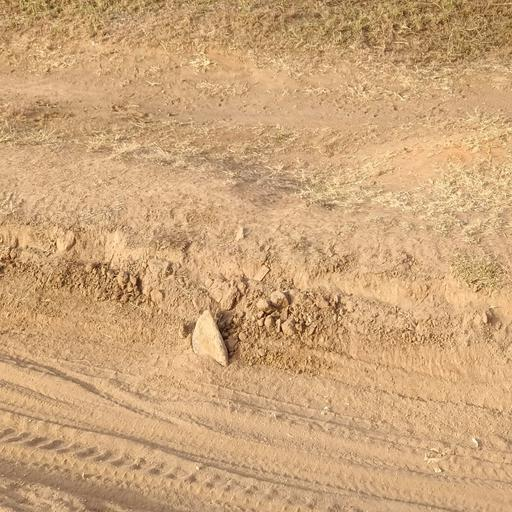vehicle_track: (0, 323, 512, 512)
